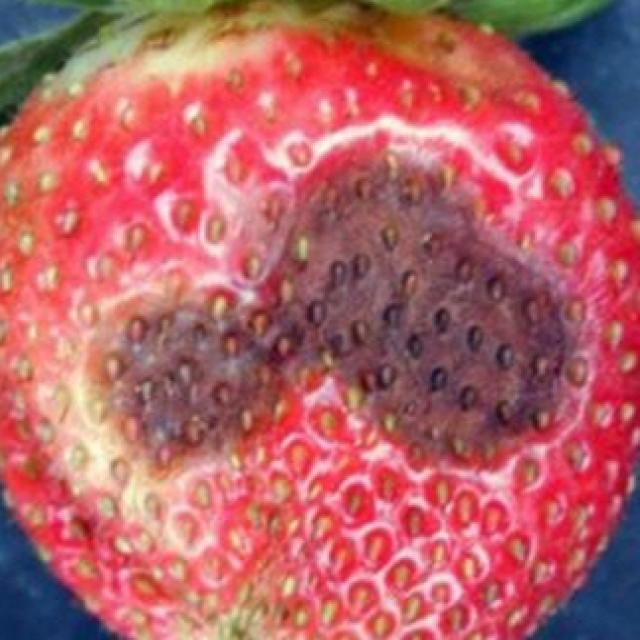Anthracnose Fruit Rot: (69, 139, 587, 479)
